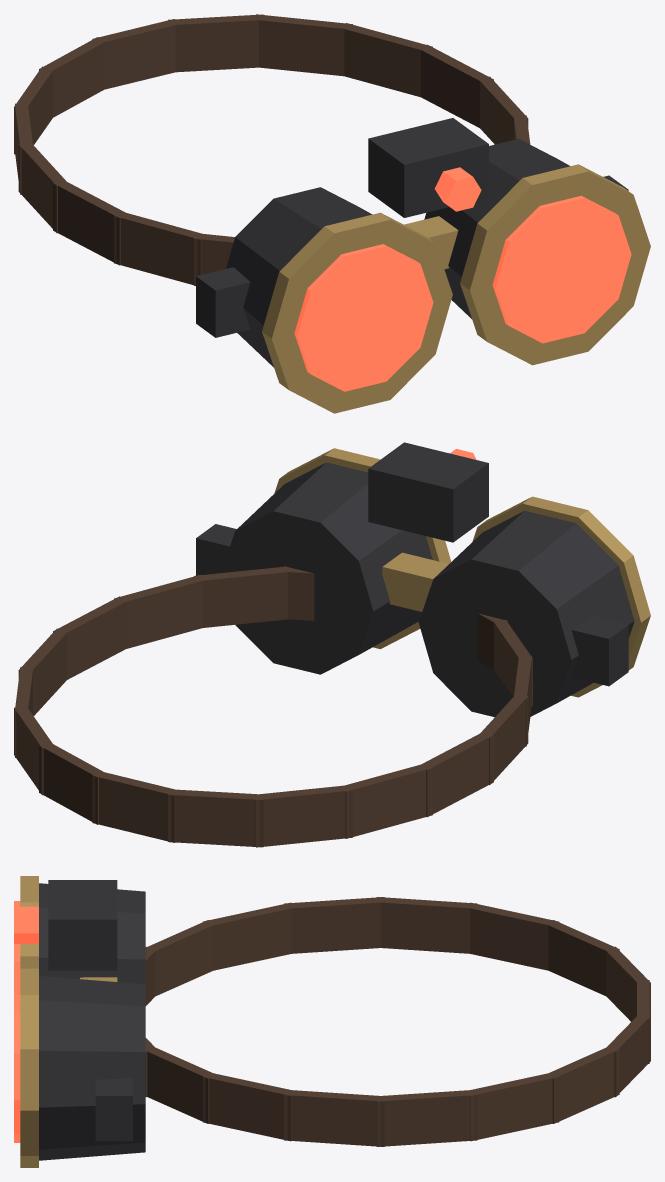
The model's file is InfraredGoggles.fbx.
3 renders of one model, top to bottom at view 1: azimuth 30°, elevation 25°; view 2: azimuth 150°, elevation 25°; view 3: azimuth 270°, elevation 25°, orthographic. The views are drawn at different scales.
Parts seen in each view (by area): view 1: InfraredGoggles; view 2: InfraredGoggles; view 3: InfraredGoggles.
Boxes of the visible parts, bbox=[...] form: InfraredGoggles: bbox=[14, 14, 650, 413]; InfraredGoggles: bbox=[14, 442, 650, 847]; InfraredGoggles: bbox=[14, 876, 650, 1167].
Bounding box in the file's own units: 0.1544 × 0.0734 × 0.2031.
